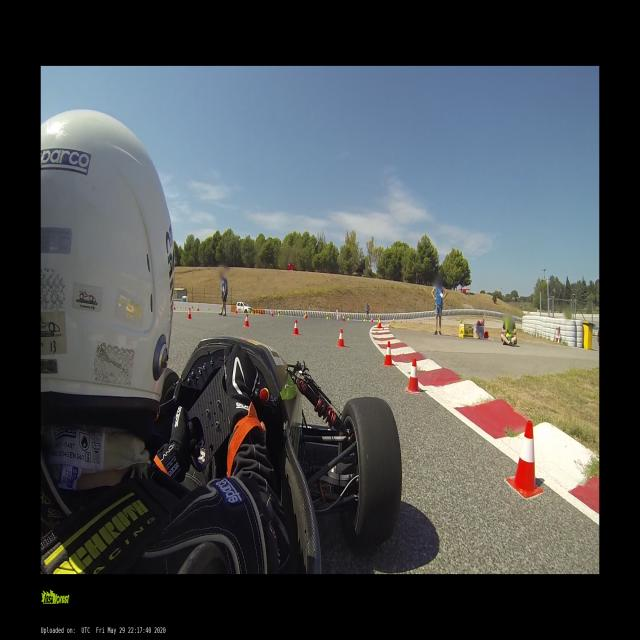orange_cone: (506, 422, 543, 498), (405, 359, 421, 396), (381, 342, 394, 366), (336, 328, 346, 348), (292, 319, 300, 336), (243, 314, 250, 327), (186, 308, 192, 320), (304, 310, 308, 320), (342, 315, 346, 322), (235, 306, 238, 314), (270, 311, 274, 316), (371, 316, 373, 323), (197, 305, 199, 311), (174, 304, 175, 310)
yellow_cone: (378, 318, 381, 328), (377, 316, 380, 326), (325, 313, 329, 319), (347, 315, 350, 321), (364, 316, 366, 322), (251, 308, 253, 314), (278, 311, 279, 316)
